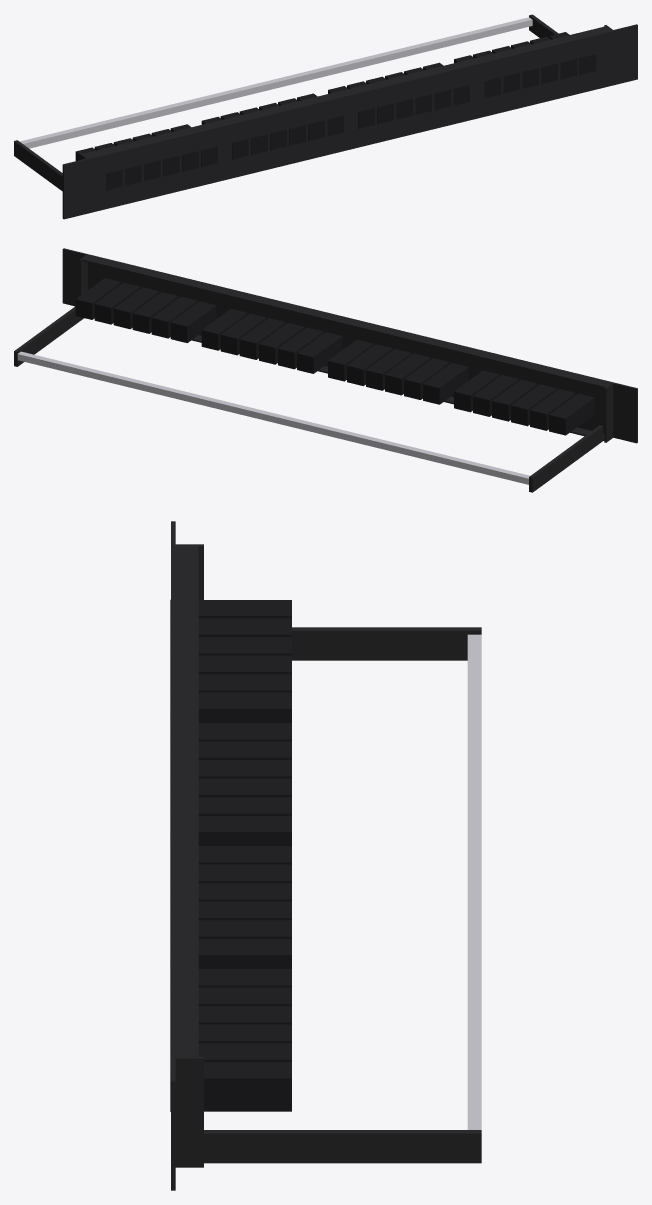
Rendered from PP-RJ45-24.far.glb.
3 views of the same model, one above another, from view 1: azimuth 30°, elevation 25°; view 2: azimuth 150°, elevation 25°; view 3: azimuth 270°, elevation 25° (orthographic). The views are drawn at different scales.
Parts seen in each view (by area): view 1: PP-RJ45-24_Body_far; view 2: PP-RJ45-24_Body_far; view 3: PP-RJ45-24_Body_far.
Part boxes in pixels (x1,y1,x2,y2): PP-RJ45-24_Body_far: (14, 14, 637, 219); PP-RJ45-24_Body_far: (14, 248, 637, 492); PP-RJ45-24_Body_far: (170, 521, 481, 1190).
Size of the model in its own units: 0.4826 by 0.0437 by 0.1133.
Materials: 1 (1 with a texture image).
